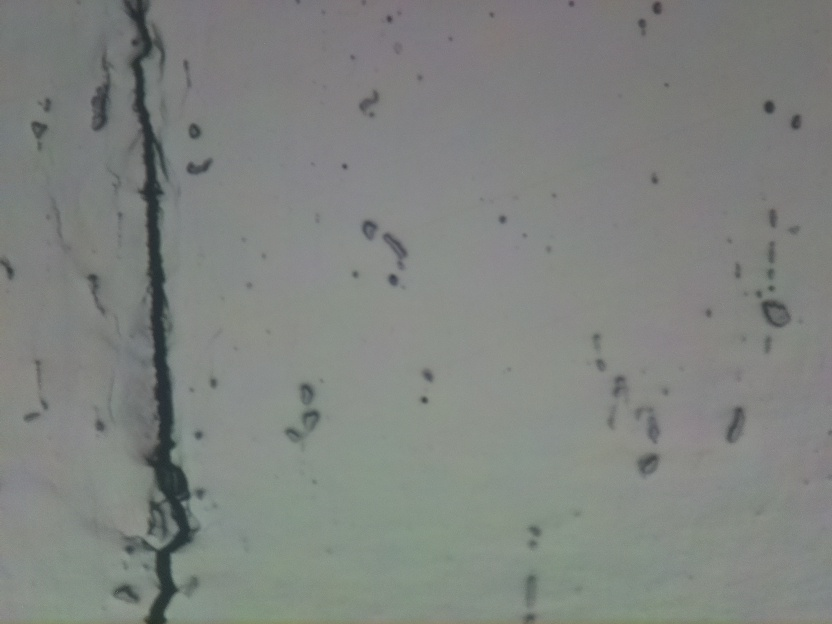crack: (118, 0, 203, 624)
